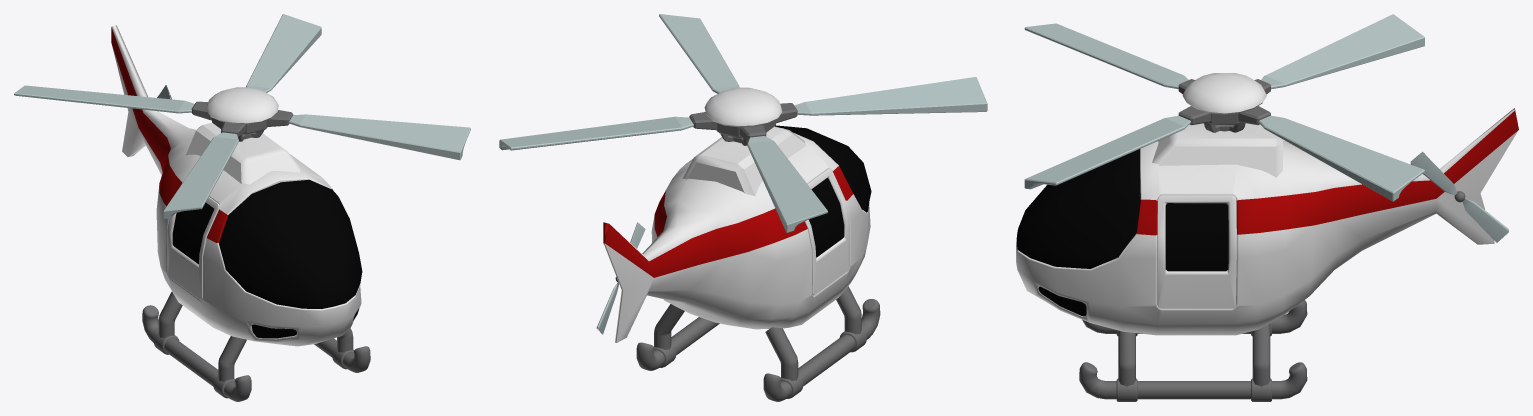
Rendered from Helicopter.fbx.
3 views of the same model, side by side, from view 1: azimuth 30°, elevation 25°; view 2: azimuth 150°, elevation 25°; view 3: azimuth 270°, elevation 25° (orthographic). The views are drawn at different scales.
Visible parts, largest first — view 1: Body_geo, MainBlade_geo; view 2: Body_geo, MainBlade_geo, SubBlade_geo; view 3: Body_geo, MainBlade_geo, SubBlade_geo.
Part boxes in pixels (x1,y1,x2,y2): Body_geo: [111, 25, 370, 401]; MainBlade_geo: [14, 14, 470, 219]; Body_geo: [603, 125, 880, 401]; MainBlade_geo: [499, 14, 987, 232]; SubBlade_geo: [596, 222, 645, 334]; Body_geo: [1016, 108, 1518, 401]; MainBlade_geo: [1024, 14, 1424, 201]; SubBlade_geo: [1410, 151, 1508, 242].
Size of the model in its own units: 102 by 81.16 by 128.
